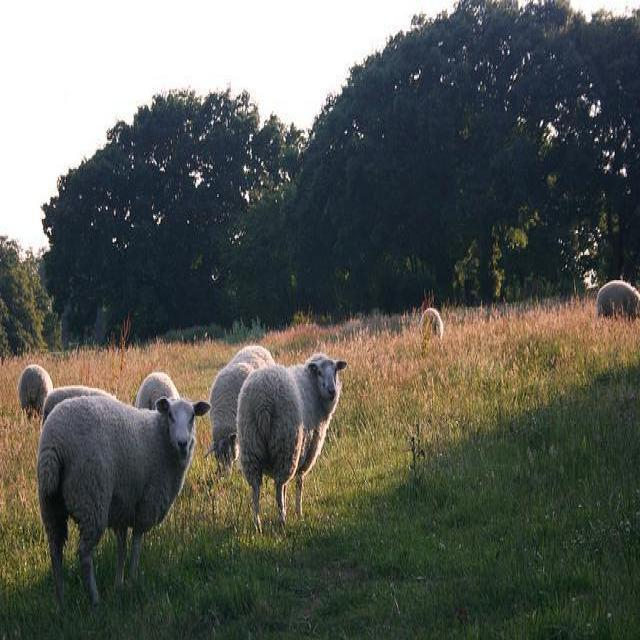Sheep: (36, 394, 214, 638), (235, 355, 347, 534), (202, 341, 275, 484), (41, 371, 181, 429), (17, 363, 54, 418)
